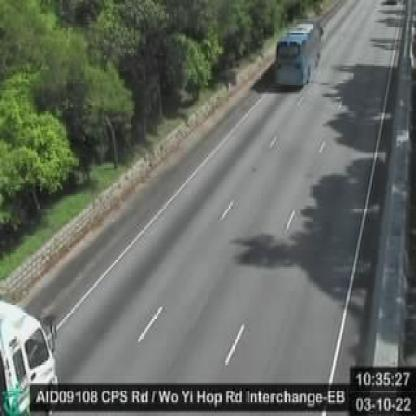Bus: (273, 20, 322, 86)
